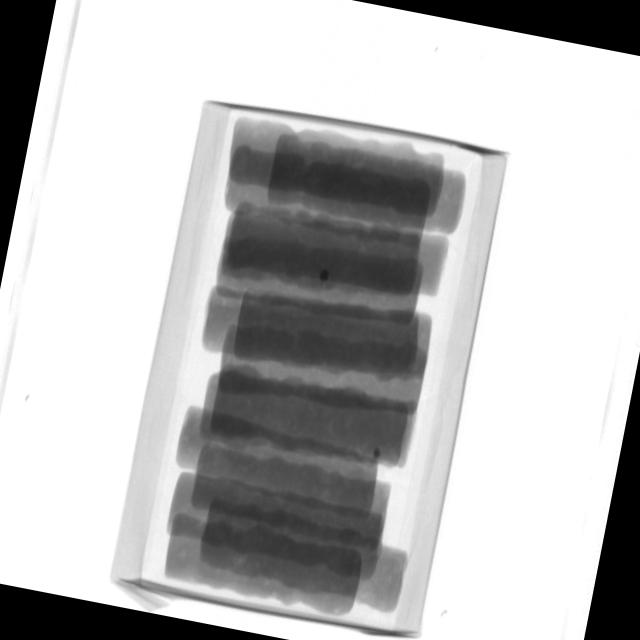ym: (372, 447, 384, 462), (320, 271, 331, 285)
